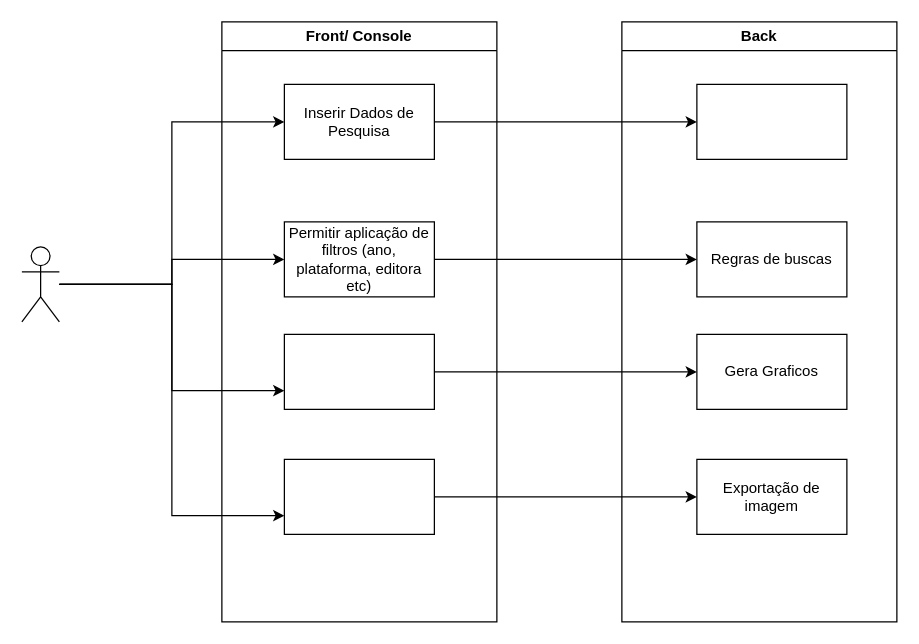
Some shapes in this 919 by 644 pixel diagram are drawn without their labels. Each missing label, with the centre of its shape:
Actor: point (40, 284)
Carregar arquivo CSV e validar integridade dos dados: point (771, 121)
Fornecer opção para salvar a imagem dos gráficos.: point (358, 496)
Permite a opção de visualizar em graficos: point (358, 371)
